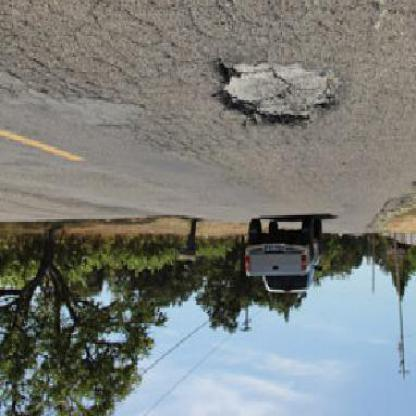pothole: (213, 58, 345, 131)
